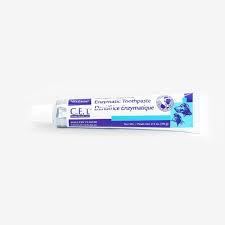toothpaste: (23, 91, 212, 140)
